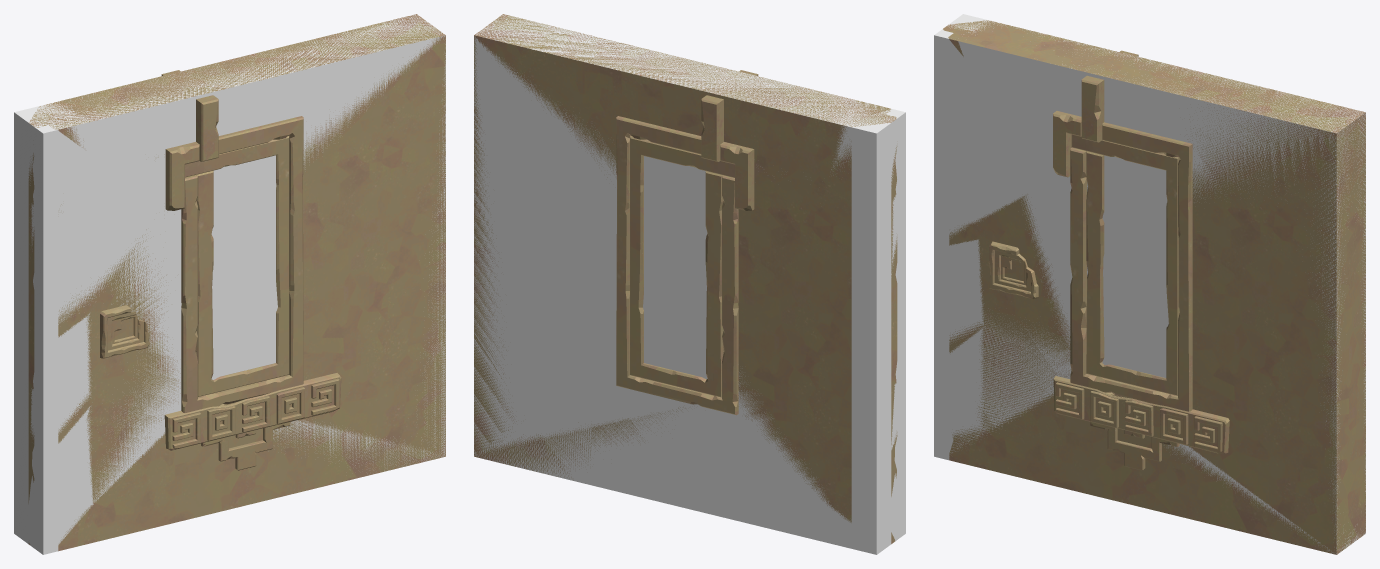
The model's file is Window_Intact_Corner_L.fbx.
3 renders of one model, left to right at view 1: azimuth 30°, elevation 25°; view 2: azimuth 150°, elevation 25°; view 3: azimuth 330°, elevation 25°, orthographic.
Parts seen in each view (by area): view 1: Window_Corner_L, Window_Corner_L_COL, WL_Frame, WL_Detail_Rectangle, WL_Detail_Square, WL_Detail_Trim; view 2: Window_Corner_L_COL, Window_Corner_L, WL_Frame; view 3: Window_Corner_L, Window_Corner_L_COL, WL_Frame, WL_Detail_Rectangle, WL_Detail_Square, WL_Detail_Trim.
Part boxes in pixels (x1=…): Window_Corner_L: x1=28, y1=14, x2=445, y2=551; Window_Corner_L_COL: x1=14, y1=14, x2=445, y2=554; WL_Frame: x1=161, y1=70, x2=303, y2=412; WL_Detail_Rectangle: x1=164, y1=373, x2=341, y2=450; WL_Detail_Square: x1=100, y1=305, x2=149, y2=358; WL_Detail_Trim: x1=201, y1=402, x2=290, y2=470; Window_Corner_L_COL: x1=474, y1=14, x2=905, y2=554; Window_Corner_L: x1=474, y1=14, x2=897, y2=543; WL_Frame: x1=616, y1=70, x2=758, y2=415; Window_Corner_L: x1=943, y1=20, x2=1365, y2=554; Window_Corner_L_COL: x1=934, y1=14, x2=1365, y2=554; WL_Frame: x1=1053, y1=50, x2=1192, y2=411; WL_Detail_Rectangle: x1=1053, y1=376, x2=1229, y2=453; WL_Detail_Square: x1=989, y1=241, x2=1038, y2=299; WL_Detail_Trim: x1=1090, y1=394, x2=1179, y2=470.
Size of the model in its own units: 400 by 400 by 70.81.
